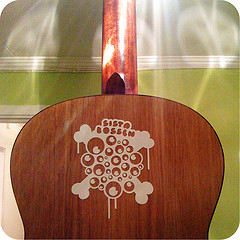guitar: (7, 1, 226, 240)
